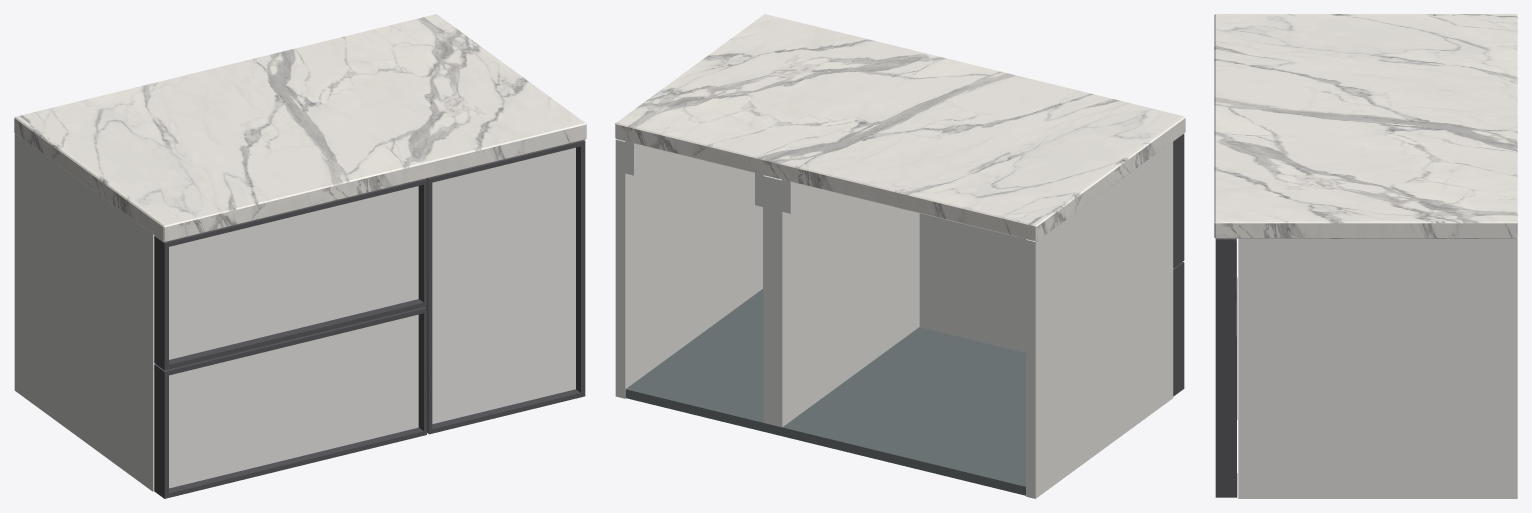
3 views of the same model, side by side, from view 1: azimuth 30°, elevation 25°; view 2: azimuth 150°, elevation 25°; view 3: azimuth 270°, elevation 25° (orthographic).
Parts seen in each view (by area): view 1: AT07; view 2: AT07; view 3: AT07.
Part boxes in pixels (<box>): AT07: <box>14,14,586,498</box>; AT07: <box>615,14,1185,498</box>; AT07: <box>1214,14,1517,498</box>.
Size of the model in its own units: 0.796 by 0.493 by 0.489.
5 materials, 3 textured.
